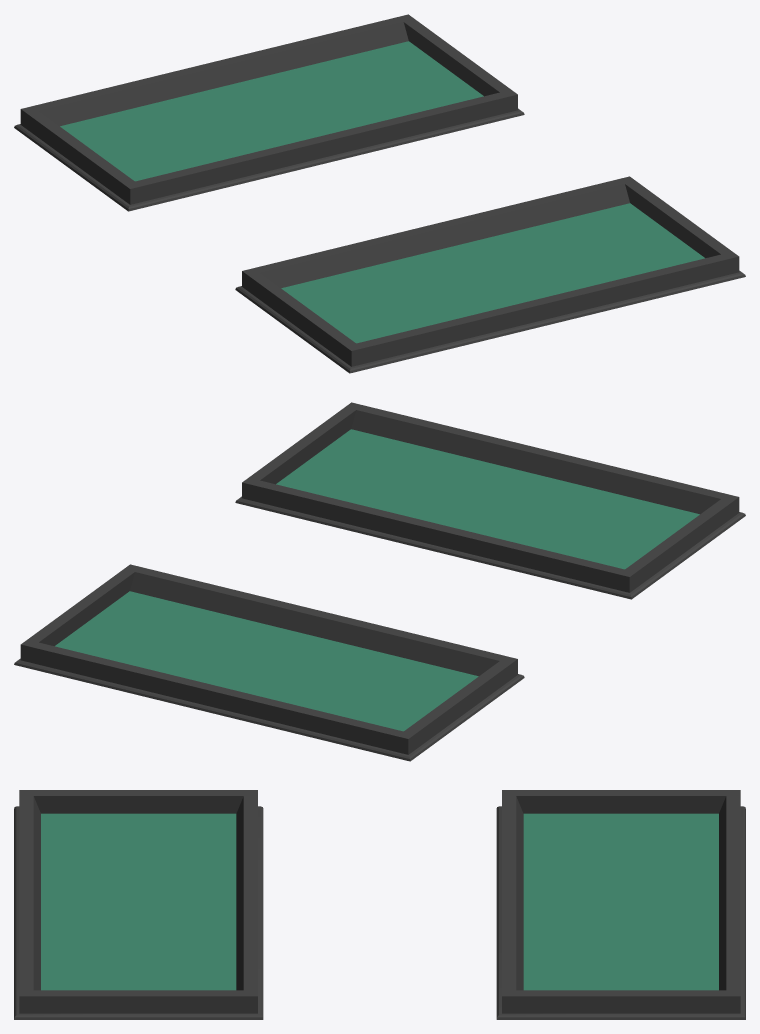
File: Caca_den_Isidre.FBX
The picture shows the model from 3 angles, top to bottom: view 1: azimuth 30°, elevation 25°; view 2: azimuth 150°, elevation 25°; view 3: azimuth 270°, elevation 25°; orthographic projection. The views are drawn at different scales.
Parts seen in each view (by area): view 1: Object009, Object008; view 2: Object008, Object009; view 3: Object008, Object009.
Boxes of the visible parts, x1,y1,x2,y2 form: Object009: (235,176,745,373); Object008: (14,14,524,211); Object008: (14,564,524,761); Object009: (235,402,745,599); Object008: (496,790,745,1019); Object009: (14,790,263,1019).
Bounding box in the file's own units: 39.42 × 1.87 × 57.83.
